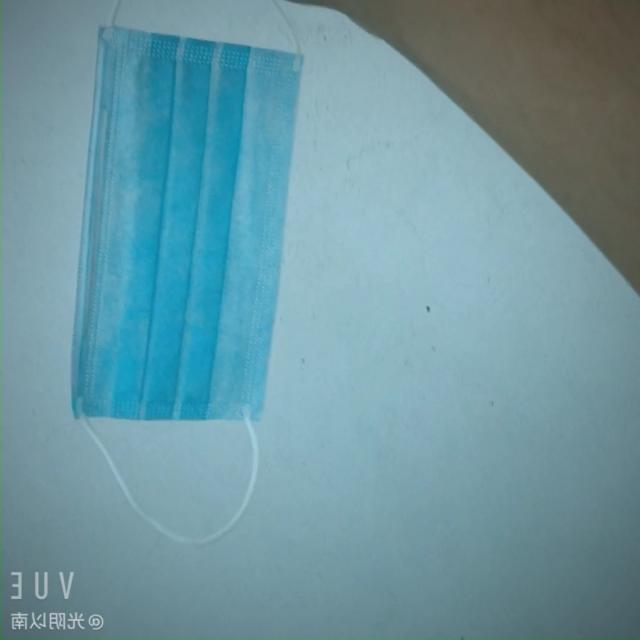face mask: (32, 16, 304, 433)
